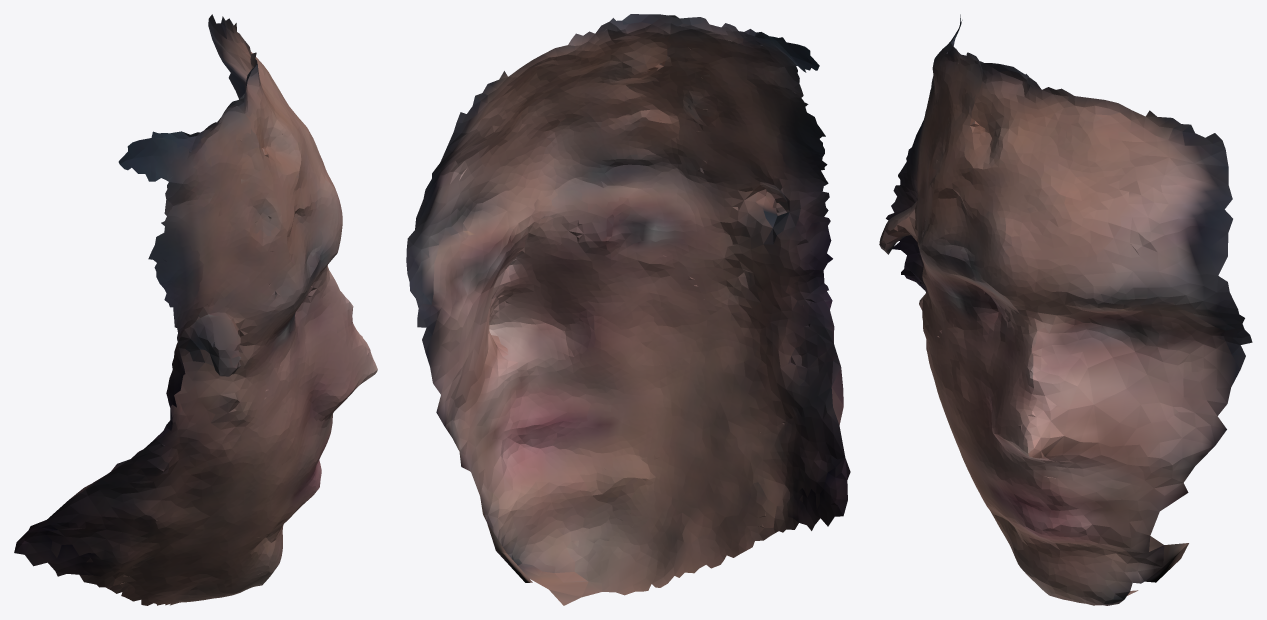
File: Raphael_Photogrammetry.fbx
3 views of the same model, side by side, from view 1: azimuth 30°, elevation 25°; view 2: azimuth 150°, elevation 25°; view 3: azimuth 270°, elevation 25° (orthographic). The views are drawn at different scales.
Parts seen in each view (by area): view 1: texturedMesh; view 2: texturedMesh; view 3: texturedMesh.
Part boxes in pixels (x1,y1,x2,y2): texturedMesh: (14, 14, 377, 605); texturedMesh: (406, 14, 850, 605); texturedMesh: (879, 14, 1252, 605).
Bounding box in the file's own units: 33.68 × 48.97 × 31.49.
1 material, 1 textured.
